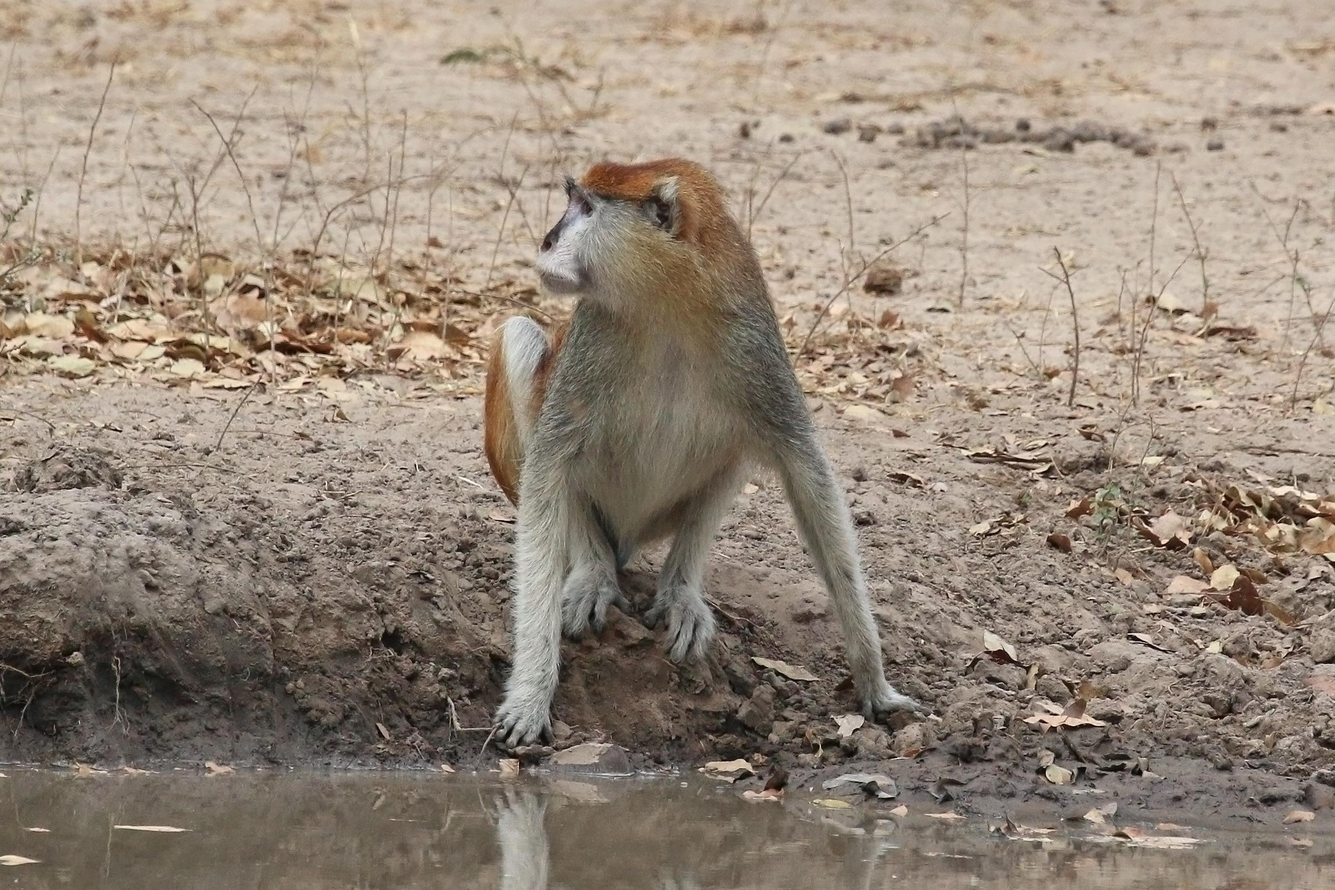monkey: (488, 159, 924, 779)
